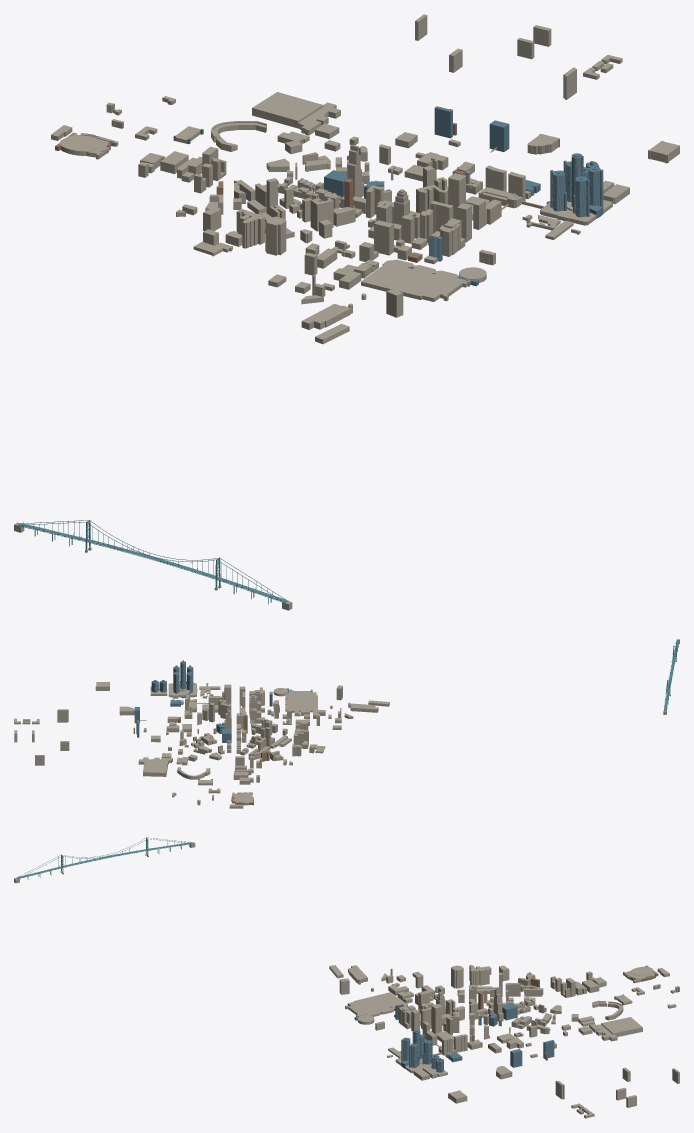
File: detroit-skyline.glb
The picture shows the model from 3 angles, top to bottom: view 1: azimuth 30°, elevation 25°; view 2: azimuth 150°, elevation 25°; view 3: azimuth 270°, elevation 25°; orthographic projection. The views are drawn at different scales.
Parts seen in each view (by area): view 1: Detroit Skyline • Detroit limestone, Detroit Skyline • Detroit reflective blue glass, Detroit Skyline • Ambassador blue steel; view 2: Detroit Skyline • Detroit limestone, Detroit Skyline • Detroit reflective blue glass, Detroit Skyline • Ambassador blue steel, Detroit Skyline • Detroit brick; view 3: Detroit Skyline • Detroit limestone, Detroit Skyline • Detroit reflective blue glass, Detroit Skyline • Ambassador blue steel.
Boxes of the visible parts, x1=… form: Detroit Skyline • Detroit limestone: x1=14, y1=14, x2=679, y2=610; Detroit Skyline • Detroit reflective blue glass: x1=95, y1=106, x2=603, y2=286; Detroit Skyline • Ambassador blue steel: x1=18, y1=520, x2=288, y2=604; Detroit Skyline • Detroit limestone: x1=14, y1=639, x2=679, y2=808; Detroit Skyline • Detroit reflective blue glass: x1=134, y1=660, x2=288, y2=801; Detroit Skyline • Ambassador blue steel: x1=664, y1=639, x2=679, y2=710; Detroit Skyline • Detroit brick: x1=133, y1=705, x2=279, y2=805; Detroit Skyline • Detroit limestone: x1=14, y1=842, x2=679, y2=1118; Detroit Skyline • Detroit reflective blue glass: x1=354, y1=974, x2=655, y2=1072; Detroit Skyline • Ambassador blue steel: x1=16, y1=837, x2=192, y2=879.
Size of what is drawn, in the model's own units: 3873 by 224 by 3991.
